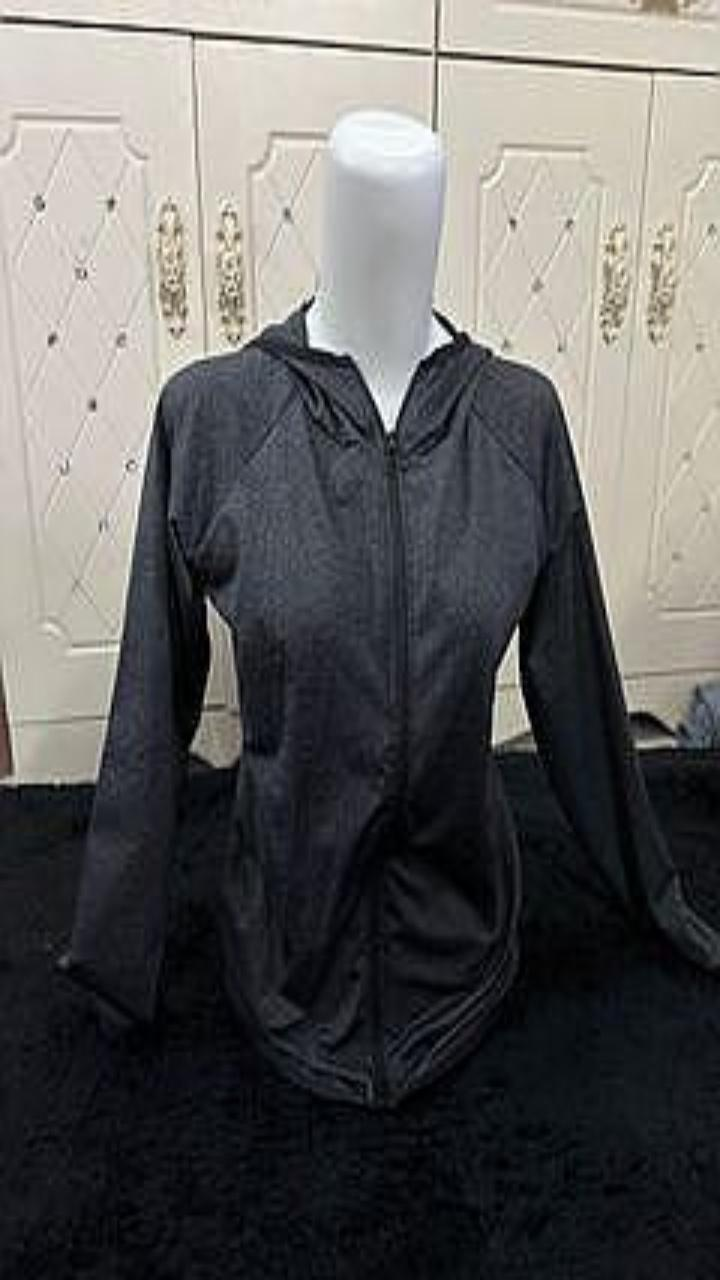Sports_Jacket: (56, 295, 719, 1107)
